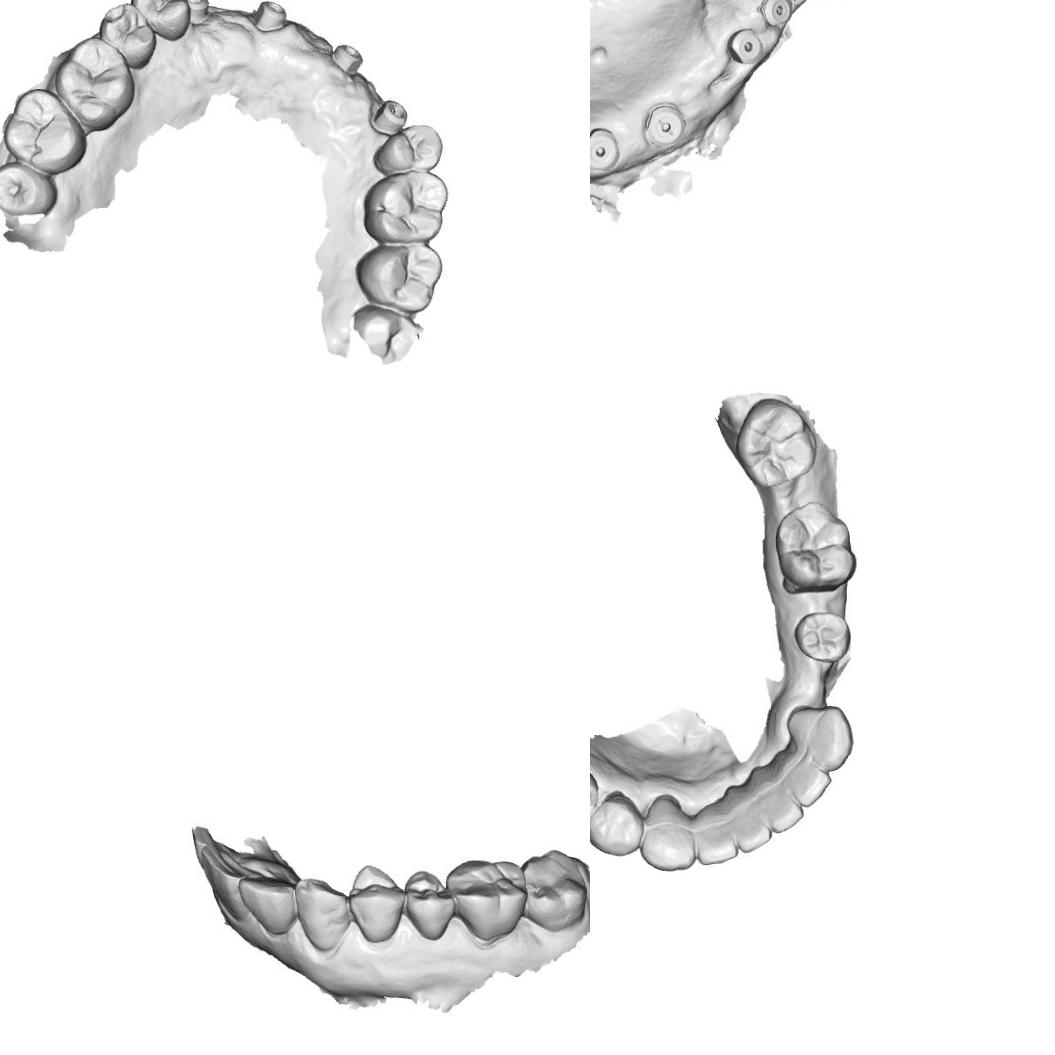canine: (786, 704, 856, 772), (639, 796, 696, 874), (294, 874, 350, 952)
implant: (723, 26, 776, 72), (329, 40, 375, 88), (371, 92, 414, 131), (590, 125, 619, 177), (253, 0, 285, 32), (761, 0, 796, 29), (184, 0, 216, 24)
implant_minus: (645, 103, 687, 144)
incisor: (199, 844, 258, 916), (241, 876, 298, 936), (691, 810, 738, 867), (728, 803, 773, 854), (786, 762, 832, 809), (760, 786, 804, 834)
molar: (772, 498, 860, 596), (734, 395, 819, 492), (51, 38, 137, 133), (2, 87, 88, 175), (450, 856, 530, 944), (354, 241, 443, 318), (363, 172, 448, 242), (521, 847, 590, 932), (0, 161, 58, 217)
premolar: (348, 860, 404, 944), (368, 122, 444, 178), (403, 864, 457, 942), (792, 606, 854, 664), (100, 5, 154, 70), (590, 788, 640, 857), (125, 0, 189, 42)
